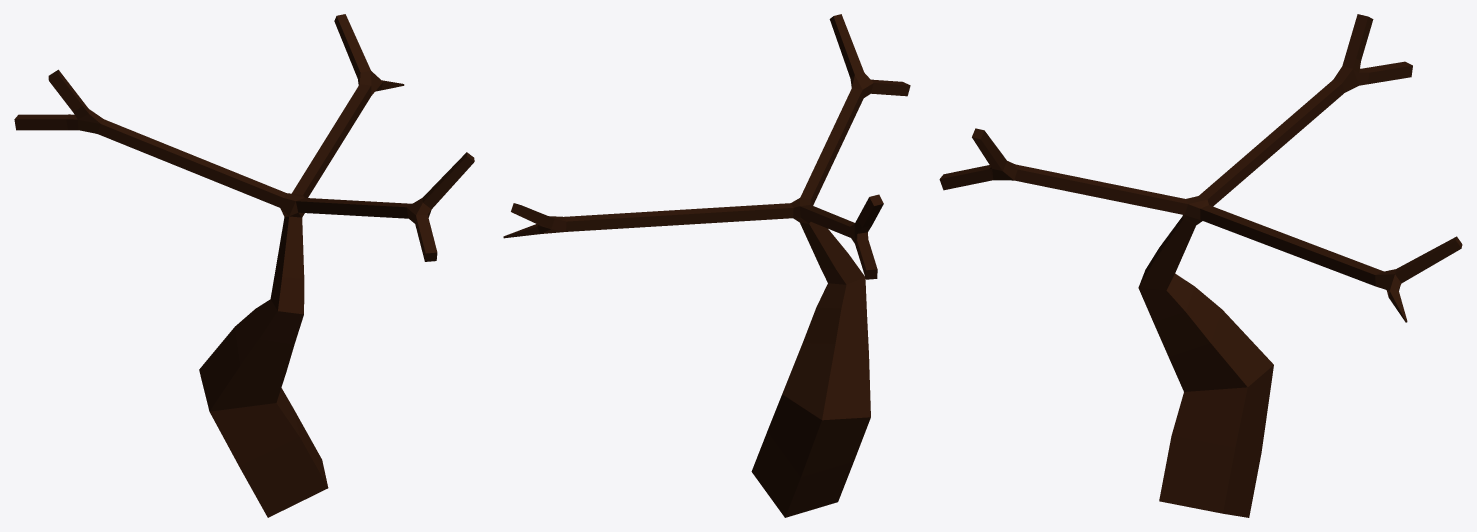
The model's file is Tree.obj.
3 views of the same model, side by side, from view 1: azimuth 30°, elevation 25°; view 2: azimuth 150°, elevation 25°; view 3: azimuth 270°, elevation 25° (orthographic). The views are drawn at different scales.
Visible parts, largest first — view 1: Branch; view 2: Branch; view 3: Branch.
Part boxes in pixels (bbox=[...]): Branch: bbox=[14, 14, 474, 517]; Branch: bbox=[503, 14, 910, 517]; Branch: bbox=[939, 14, 1462, 517].
Size of the model in its own units: 9.67 by 9.78 by 10.83.
